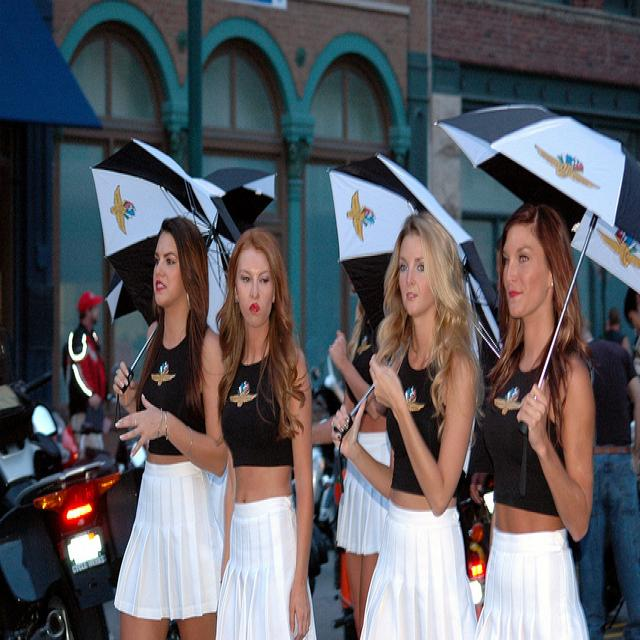motor: (5, 402, 121, 640), (310, 354, 348, 551)
